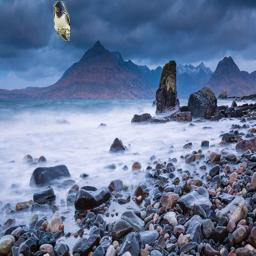Swallow: (53, 1, 70, 41)
